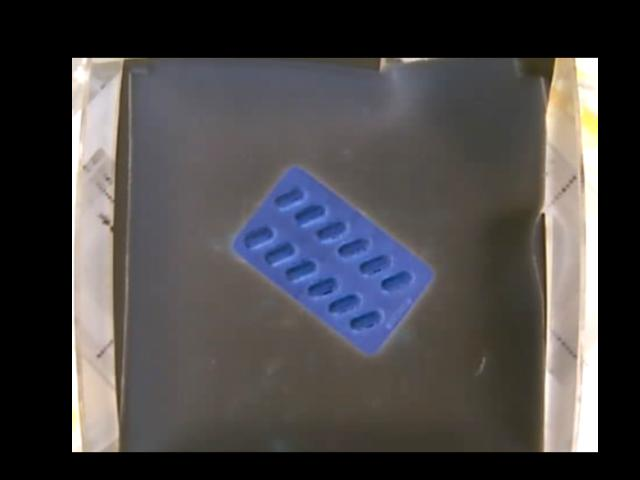Medicine: (233, 165, 433, 353)
